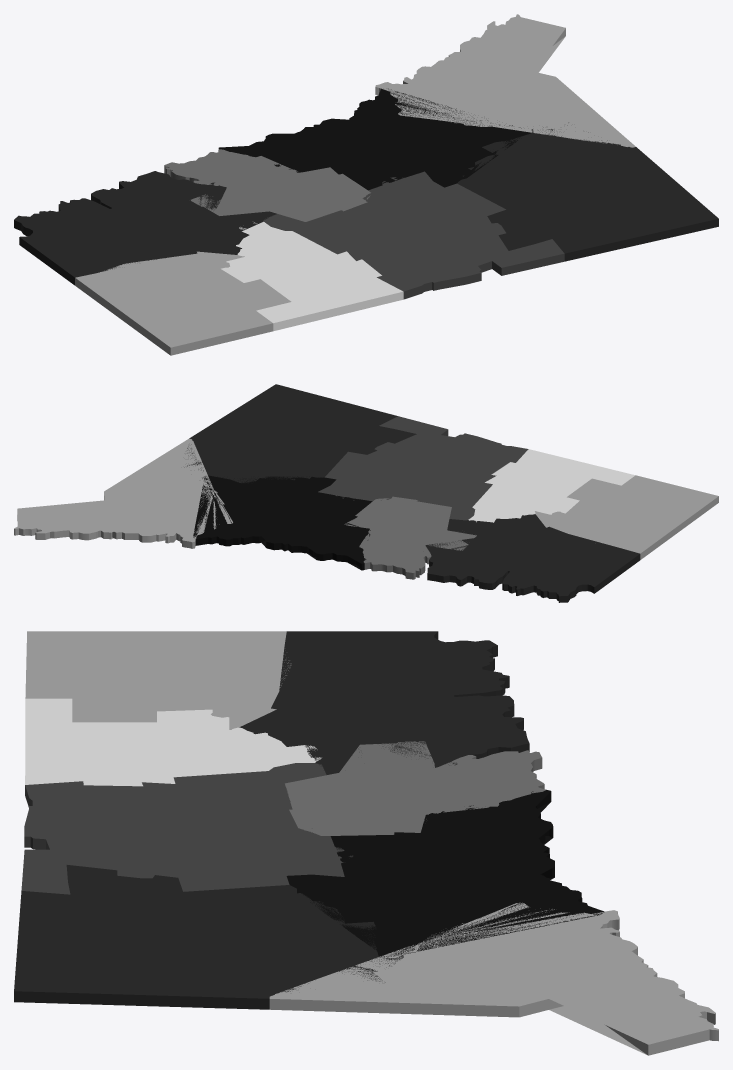
The model's file is Connecticut_Counties_3D.fbx.
3 views of the same model, one above another, from view 1: azimuth 30°, elevation 25°; view 2: azimuth 150°, elevation 25°; view 3: azimuth 270°, elevation 25° (orthographic). The views are drawn at different scales.
Visible parts, largest first — view 1: CT_Litchfield_County_3D, CT_Hartford_County_3D, CT_Fairfield_County_3D, CT_New_London_County_3D, CT_New_Haven_County_3D, CT_Windham_County_3D, CT_Tolland_County_3D, CT_Middlesex_County_3D; view 2: CT_Litchfield_County_3D, CT_New_London_County_3D, CT_New_Haven_County_3D, CT_Fairfield_County_3D, CT_Hartford_County_3D, CT_Windham_County_3D, CT_Middlesex_County_3D, CT_Tolland_County_3D; view 3: CT_Litchfield_County_3D, CT_Fairfield_County_3D, CT_Hartford_County_3D, CT_New_Haven_County_3D, CT_New_London_County_3D, CT_Windham_County_3D, CT_Tolland_County_3D, CT_Middlesex_County_3D.
Part boxes in pixels (x1,y1,x2,y2): CT_Litchfield_County_3D: (457,122,718,261); CT_Hartford_County_3D: (263,171,564,299); CT_Fairfield_County_3D: (375,14,635,147); CT_New_London_County_3D: (14,171,276,285); CT_New_Haven_County_3D: (218,88,531,190); CT_Windham_County_3D: (75,251,291,355); CT_Tolland_County_3D: (221,221,403,331); CT_Middlesex_County_3D: (164,149,370,221); CT_Litchfield_County_3D: (184,384,416,483); CT_New_London_County_3D: (425,514,640,602); CT_New_Haven_County_3D: (193,475,372,570); CT_Fairfield_County_3D: (14,438,232,548); CT_Hartford_County_3D: (318,416,528,520); CT_Windham_County_3D: (535,475,718,559); CT_Middlesex_County_3D: (344,496,476,579); CT_Tolland_County_3D: (468,449,635,522); CT_Litchfield_County_3D: (14,865,403,1009); CT_Fairfield_County_3D: (269,902,718,1055); CT_Hartford_County_3D: (21,763,352,894); CT_New_Haven_County_3D: (286,790,604,957); CT_New_London_County_3D: (239,631,529,774); CT_Windham_County_3D: (25,631,291,729); CT_Tolland_County_3D: (25,698,321,786); CT_Middlesex_County_3D: (285,741,546,835).
Size of the model in its own units: 809 by 10 by 583.
